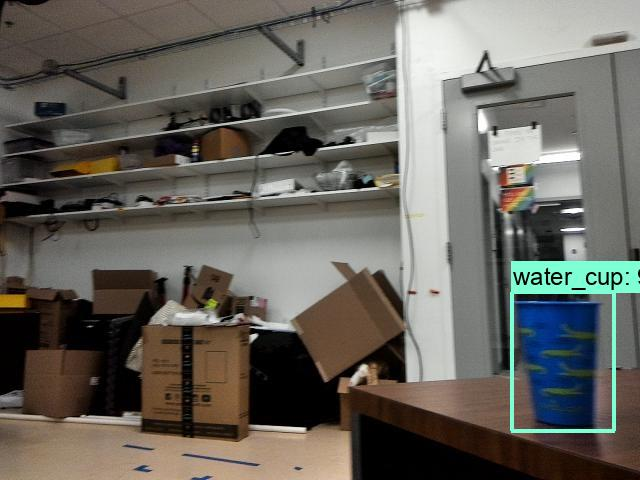water_cup: (510, 296, 604, 430)
